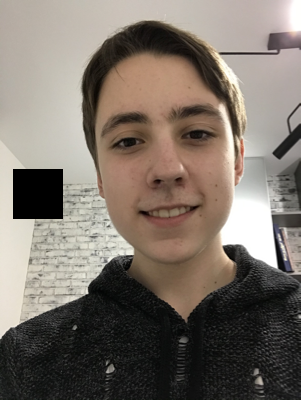without_mask: (91, 103, 239, 265)
